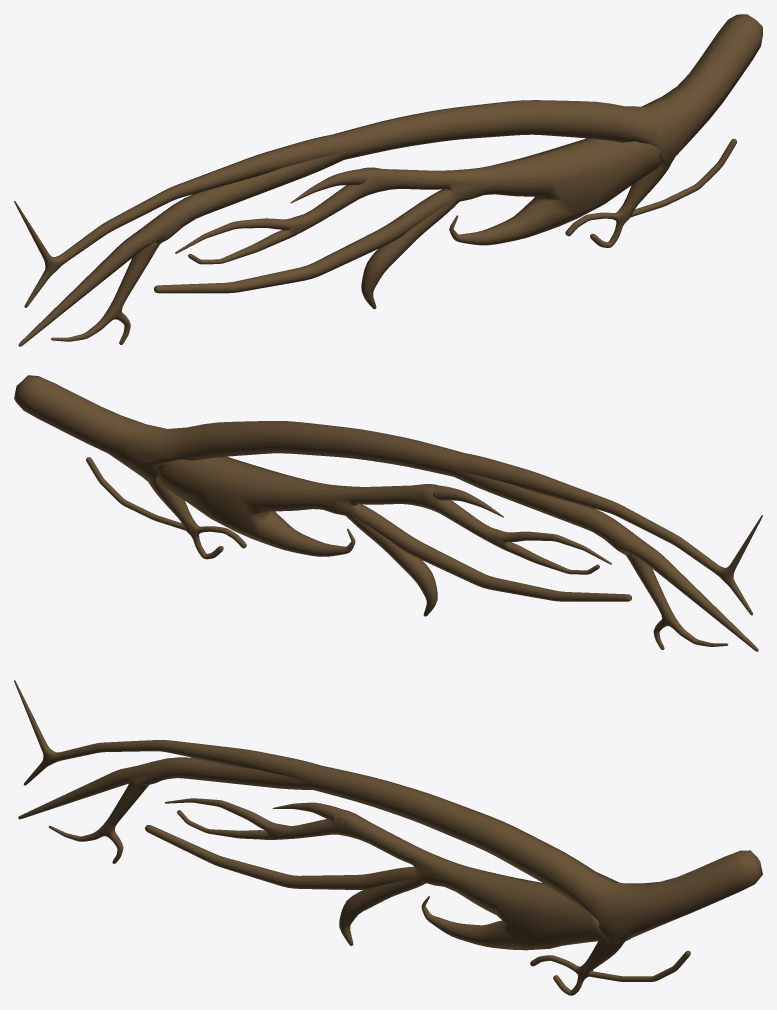
3 views of the same model, one above another, from view 1: azimuth 30°, elevation 25°; view 2: azimuth 150°, elevation 25°; view 3: azimuth 330°, elevation 25° (orthographic). The views are drawn at different scales.
Visible parts, largest first — view 1: Vert.002; view 2: Vert.002; view 3: Vert.002.
Part boxes in pixels (<box>): Vert.002: <box>14,14,762,346</box>; Vert.002: <box>14,375,762,651</box>; Vert.002: <box>14,680,762,995</box>.
Size of the model in its own units: 2121 by 514 by 231.
